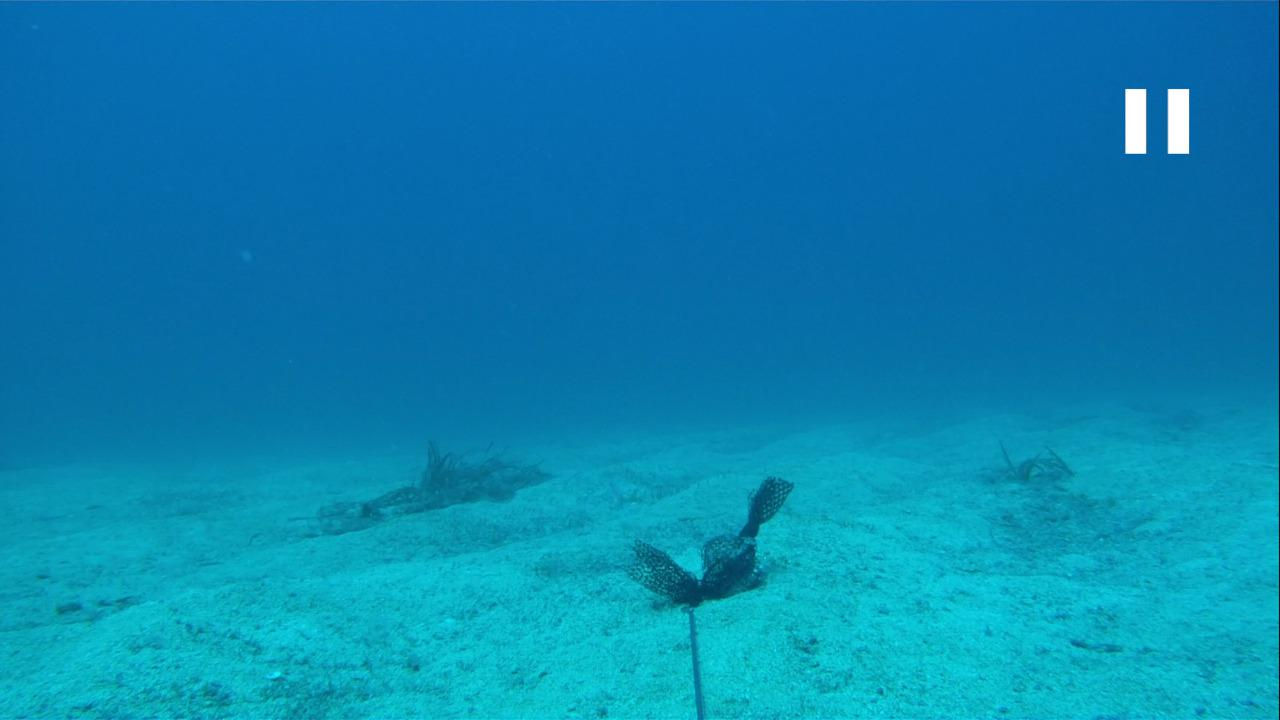dactylopterus: (286, 495, 386, 534)
